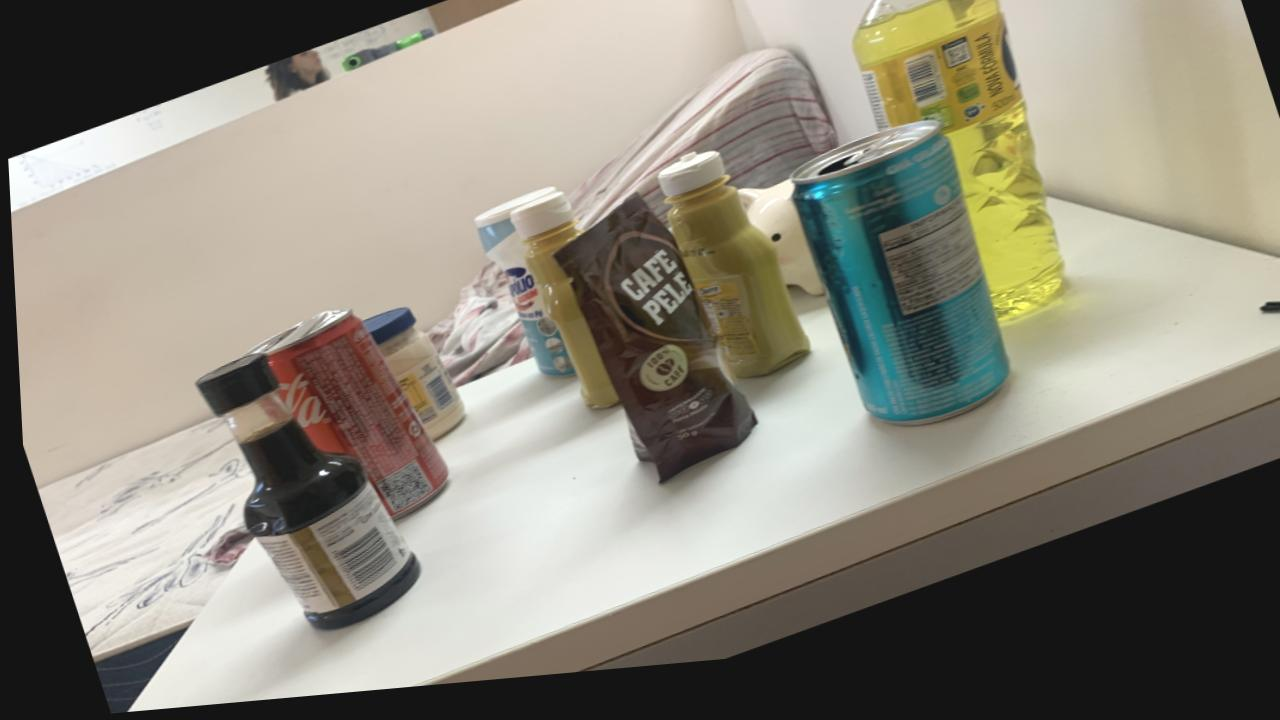Cleaner-Cleanup_Items: (472, 196, 570, 387)
Coffee-Pantry_Items: (552, 205, 751, 494)
Coke-Drinks: (245, 315, 443, 523)
Detergent-Cleanup_Items: (852, 0, 1061, 337)
English_Sauce-Pantry_Items: (193, 358, 414, 634)
Mayonnaise-Pantry_Items: (360, 315, 460, 447)
Mustard-Pantry_Items: (656, 164, 807, 391), (507, 201, 614, 420)
Pig_Safe-Miscellaneous: (736, 194, 821, 310)
Tea-Drinks: (788, 137, 1005, 442)
